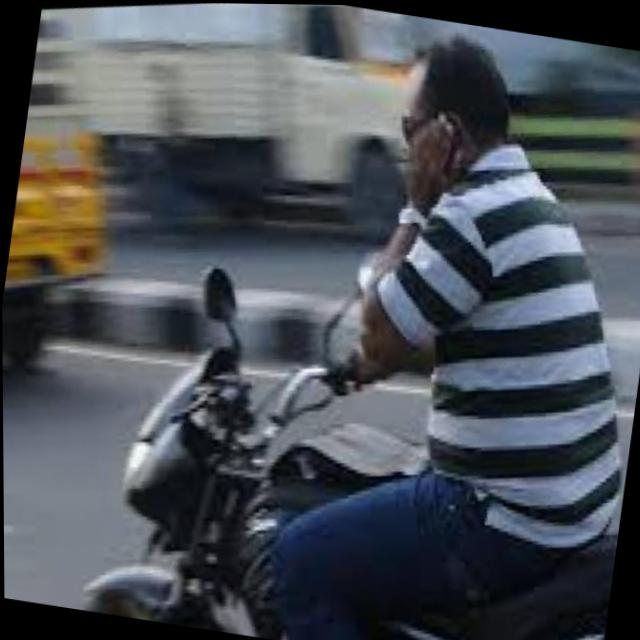USING_MOBILE: (316, 90, 517, 368)
